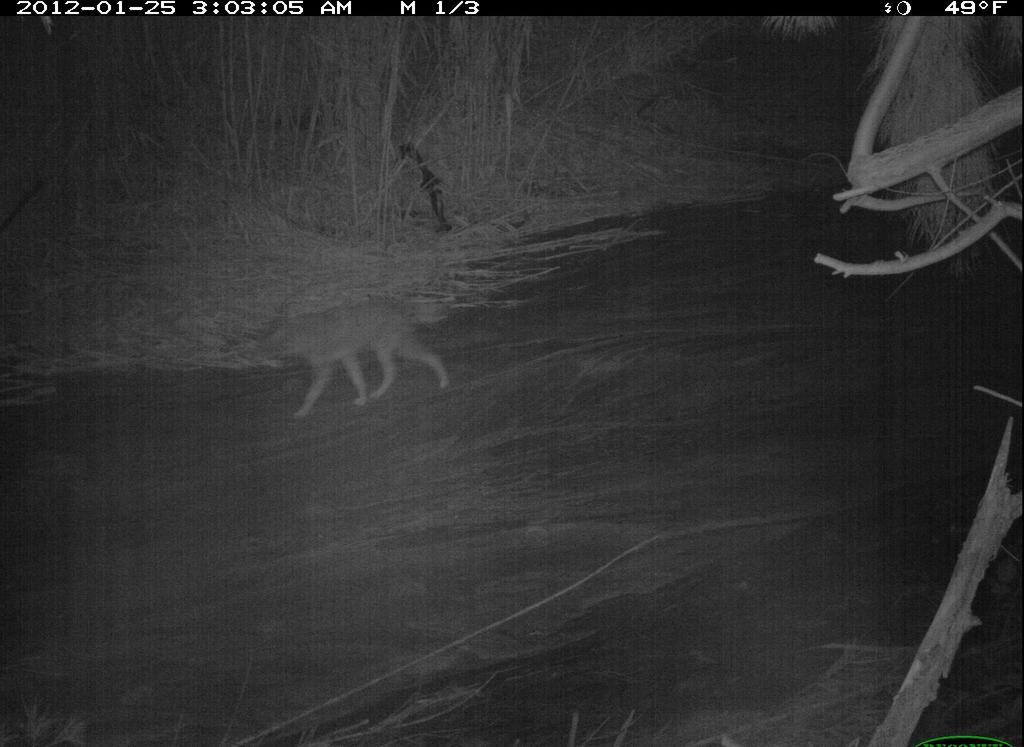coyote: (236, 283, 464, 432)
